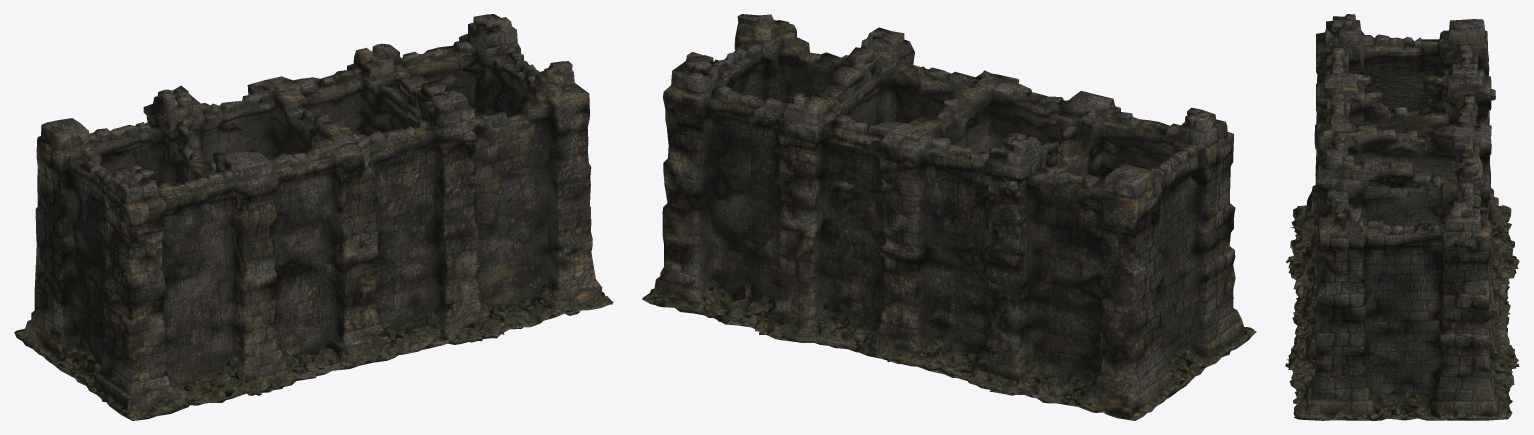
File: fort_m_ruins_wall.glb
3 renders of one model, left to right at view 1: azimuth 30°, elevation 25°; view 2: azimuth 150°, elevation 25°; view 3: azimuth 270°, elevation 25°, orthographic. The views are drawn at different scales.
Parts seen in each view (by area): view 1: fort_m_ruins_wall; view 2: fort_m_ruins_wall; view 3: fort_m_ruins_wall.
Boxes of the visible parts, x1,y1,x2,y2 form: fort_m_ruins_wall: (14, 14, 613, 420); fort_m_ruins_wall: (642, 14, 1256, 420); fort_m_ruins_wall: (1285, 14, 1519, 420).
Bounding box in the file's own units: 1.89 × 0.8429 × 0.8779.
1 material, 1 textured.
